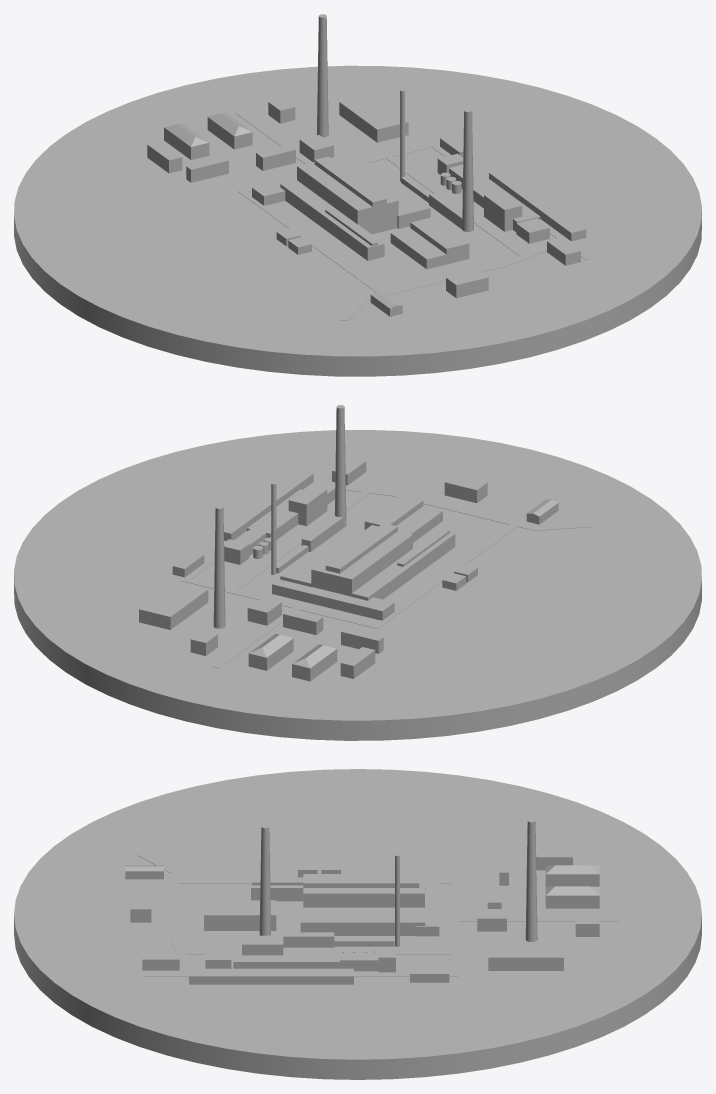
Rendered from plant.glb.
3 renders of one model, top to bottom at view 1: azimuth 30°, elevation 25°; view 2: azimuth 150°, elevation 25°; view 3: azimuth 270°, elevation 25°, orthographic.
Parts seen in each view (by area): view 1: ground, building, road, chimney01, chimney02; view 2: ground, building, road, chimney02, chimney01, chimney03; view 3: ground, building, road, chimney02, chimney01.
Part boxes in pixels (left/top/right/bottom): ground: left=14, top=65, right=701, bottom=376; building: left=147, top=94, right=586, bottom=316; road: left=236, top=111, right=592, bottom=320; chimney01: left=462, top=108, right=473, bottom=231; chimney02: left=317, top=14, right=328, bottom=137; ground: left=14, top=430, right=701, bottom=740; building: left=139, top=457, right=558, bottom=681; road: left=180, top=467, right=591, bottom=668; chimney02: left=213, top=505, right=225, bottom=628; chimney01: left=334, top=405, right=346, bottom=527; chimney03: left=271, top=482, right=276, bottom=574; ground: left=14, top=769, right=701, bottom=1079; building: left=125, top=851, right=599, bottom=984; road: left=138, top=852, right=618, bottom=976; chimney02: left=525, top=819, right=537, bottom=941; chimney01: left=259, top=825, right=270, bottom=935.
Bounding box in the file's own units: 209 × 46.73 × 209.
Materials: 3 (3 with a texture image).
